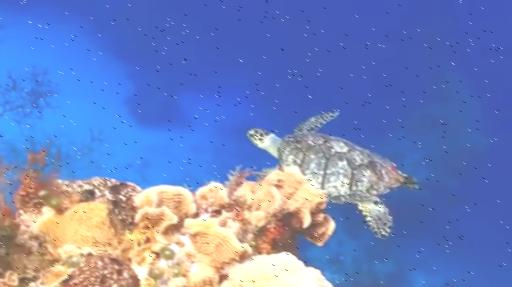Fish: (248, 112, 418, 237)
